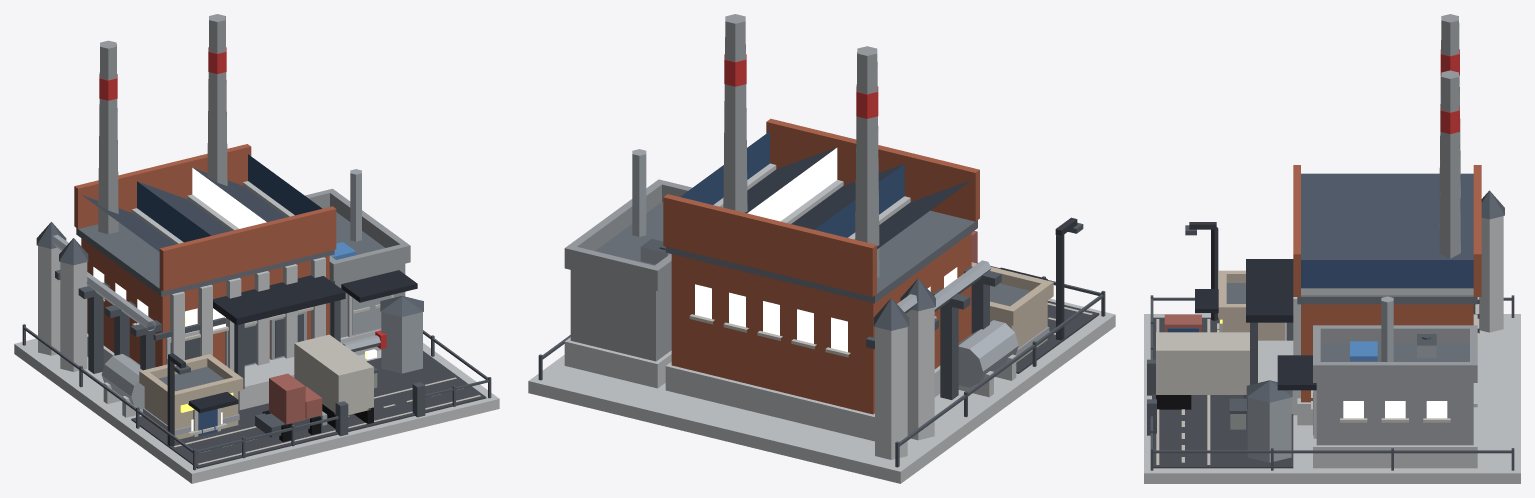
3 renders of one model, left to right at view 1: azimuth 30°, elevation 25°; view 2: azimuth 150°, elevation 25°; view 3: azimuth 270°, elevation 25°, orthographic. The views are drawn at different scales.
Visible parts, largest first — view 1: b38_v2_lod1; view 2: b38_v2_lod1; view 3: b38_v2_lod1.
Boxes of the visible parts, box(x1,y1,x2,y2) form: b38_v2_lod1: box(14, 14, 499, 483); b38_v2_lod1: box(528, 14, 1115, 483); b38_v2_lod1: box(1144, 14, 1520, 483).
Bounding box in the file's own units: 0.96 × 0.95 × 0.96.
